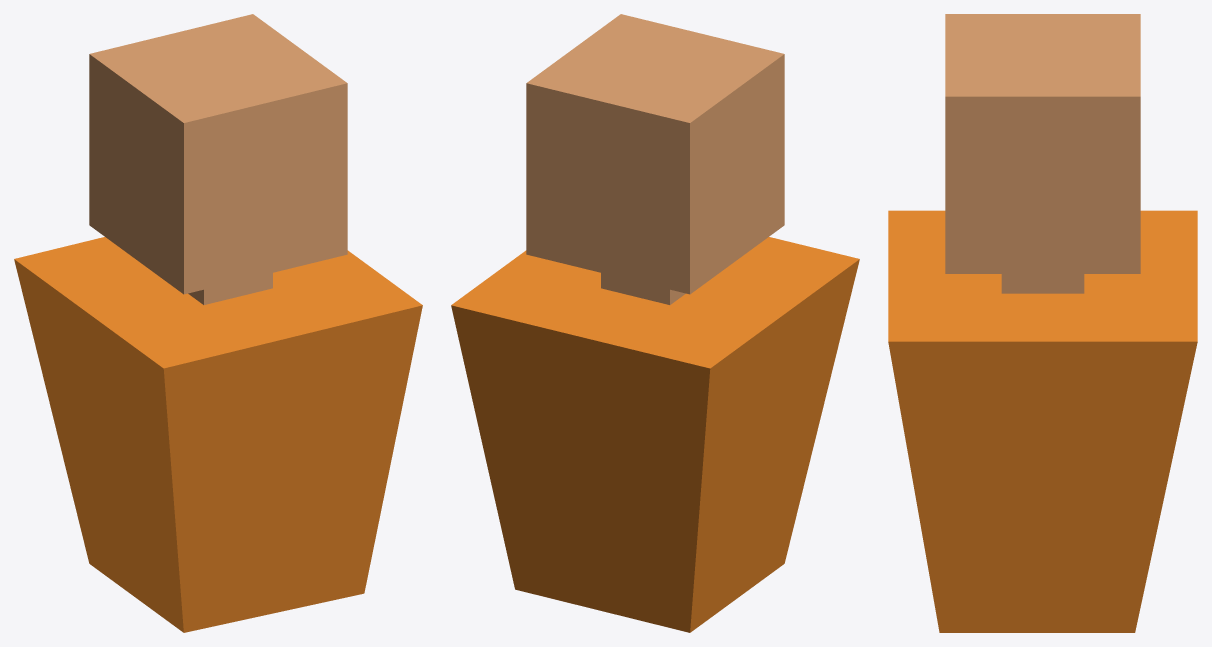
Rendered from character3.fbx.
The picture shows the model from 3 angles, left to right: view 1: azimuth 30°, elevation 25°; view 2: azimuth 150°, elevation 25°; view 3: azimuth 270°, elevation 25°; orthographic projection. The views are drawn at different scales.
Visible parts, largest first — view 1: Cube, Cube.002, Cube.001; view 2: Cube, Cube.002, Cube.001; view 3: Cube, Cube.002, Cube.001.
Boxes of the visible parts, x1,y1,x2,y2 form: Cube: [14, 237, 422, 632]; Cube.002: [89, 14, 347, 294]; Cube.001: [188, 273, 272, 304]; Cube: [451, 237, 859, 632]; Cube.002: [526, 14, 784, 294]; Cube.001: [601, 273, 685, 304]; Cube: [888, 210, 1197, 632]; Cube.002: [945, 14, 1140, 273]; Cube.001: [1001, 274, 1084, 293].
Size of the model in its own units: 3.17 by 5.97 by 3.17.
